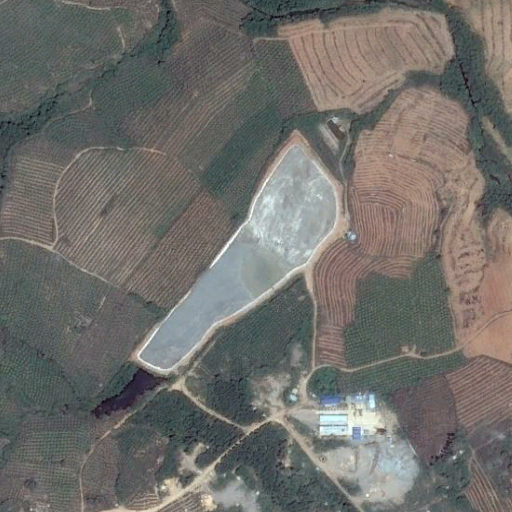tp: (131, 139, 340, 377)
